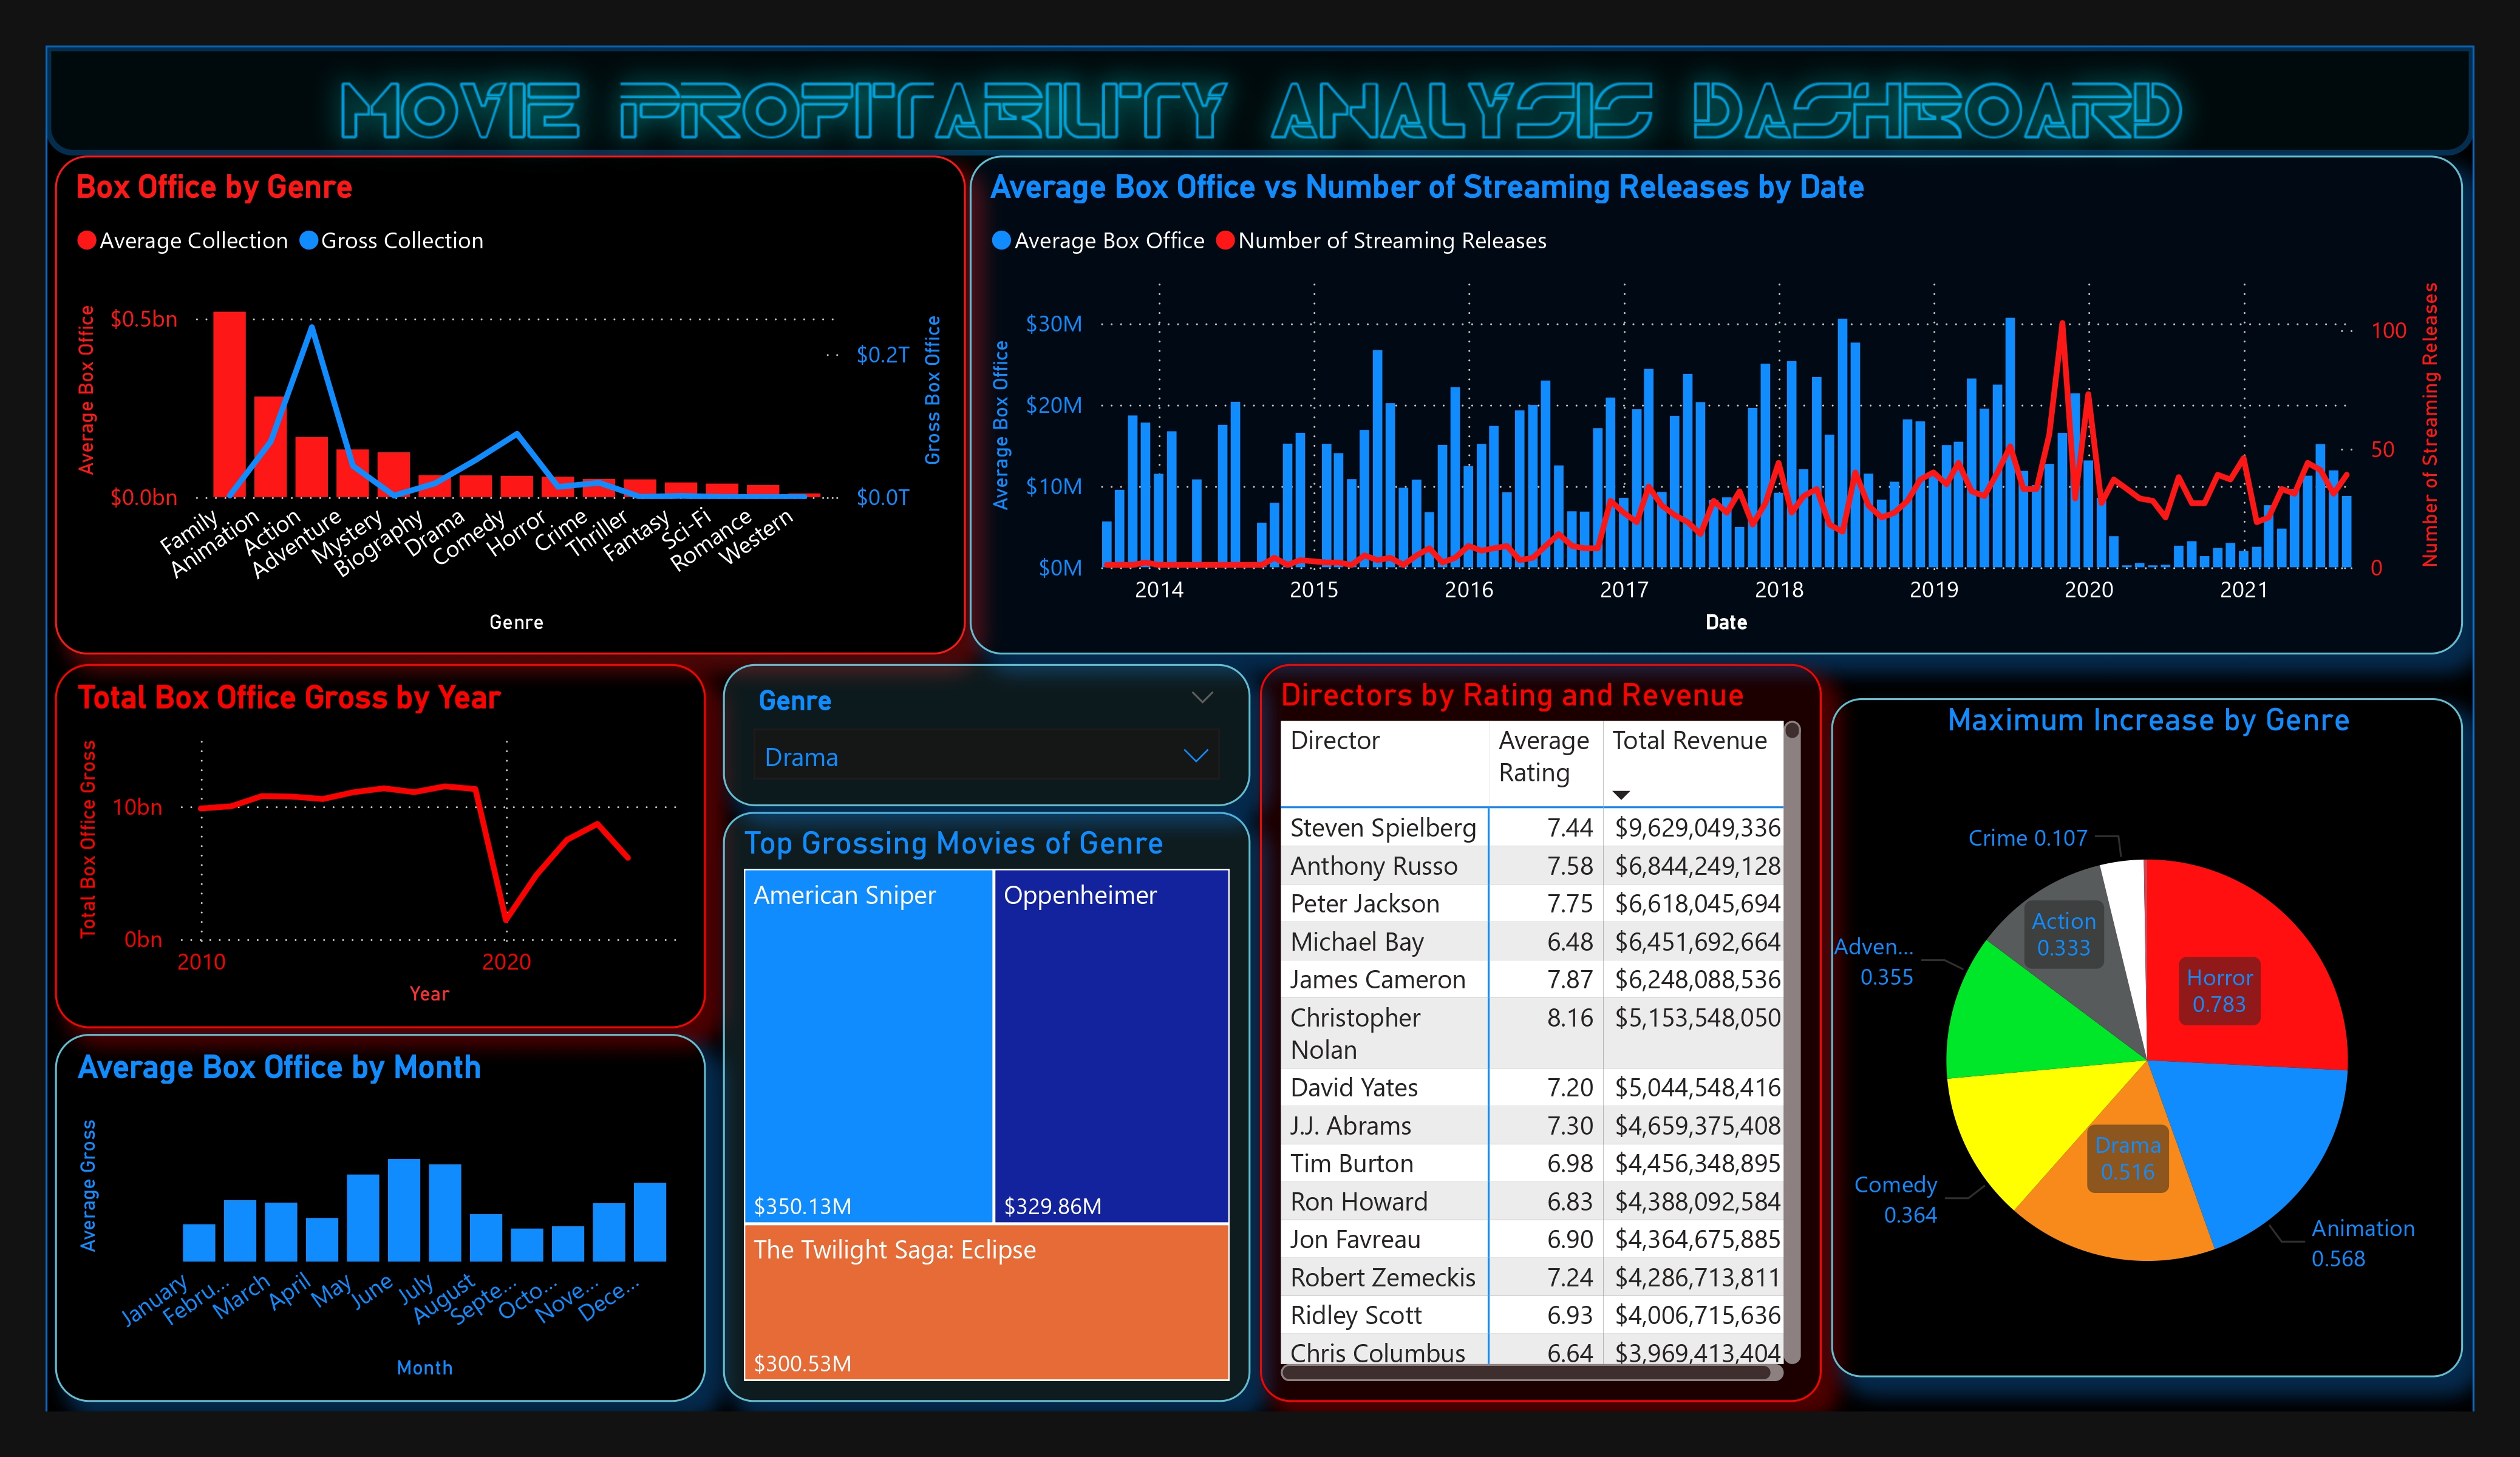

Layout of this report page (visuals, bound fields, positions):
{"tool":"powerbi","page":{"name":"Page 1","canvas":[1280,720],"ordinal":0},"visuals":[{"type":"shape","box":[0,0,1280,720.6],"z":0},{"type":"shape","box":[0,0,1280,58.1],"z":1000},{"type":"lineStackedColumnComboChart","title":"Box Office by Genre","fields":{"Category":["Genre Box Office.Genre"],"Y":["Sum(Genre Box Office.AverageCollection)"],"Y2":["Sum(Genre Box Office.GrossCollection)"]},"box":[4.7,58.1,480,263.1],"z":2000},{"type":"lineChart","title":"Total Box Office Gross by Year","fields":{"Y":["Sum(Yearly Box Office.total_gross)"],"Category":["Yearly Box Office.year"]},"box":[4.7,325.9,343.7,192],"z":3000},{"type":"lineStackedColumnComboChart","title":"Average Box Office vs Number of Streaming Releases by Date","fields":{"Category":["Streaming Movies Over Years.Date.Variation.Date Hierarchy.Year"],"Y":["Sum(Box Office Over Time.avg_boxoffice)"],"Y2":["Sum(Streaming Movies Over Years.Num Streaming Releases)"]},"box":[487.1,58.1,787,263.1],"z":4000},{"type":"clusteredColumnChart","title":"Average Box Office by Month","fields":{"Category":["Box Office Over Time.Date.Variation.Date Hierarchy.Year","Box Office Over Time.Date.Variation.Date Hierarchy.Quarter","Box Office Over Time.Date.Variation.Date Hierarchy.Month","Box Office Over Time.Date.Variation.Date Hierarchy.Day"],"Y":["Sum(Box Office Over Time.avg_boxoffice)"]},"box":[4.7,521.5,343.7,193.2],"z":5000},{"type":"treemap","title":"Top Grossing Movies of Genre","fields":{"Group":["Top Genre Movies.Movie"],"Values":["Sum(Top Genre Movies.total_gross)"]},"box":[356.7,404.1,278.5,310.5],"z":6000},{"type":"slicer","fields":{"Values":["Top Genre Movies.Genre"]},"box":[356.7,325.9,278.5,74.7],"z":7000},{"type":"pivotTable","title":"Directors by Rating and Revenue","fields":{"Rows":["Directors BO, Ratings.director"],"Values":["Sum(Directors BO, Ratings.avg_rating)","Sum(Directors BO, Ratings.total_revenue)"]},"box":[640,325.9,296.3,388.7],"z":8000},{"type":"pieChart","title":"Maximum Increase by Genre","fields":{"Category":["Genre Rating Changes.Genre"],"Y":["Sum(Genre Rating Changes.Maximum Increase)"],"Series":["Genre Rating Changes.Genre"]},"box":[941,343.7,333,357.9],"z":9000},{"type":"image","box":[0,0,1280,67.6],"z":10000}]}

Visuals, with their boxes in screenshot pixels (x1, y1, x2, y2):
shape: select_region(72, 39, 2469, 1388)
shape: select_region(72, 39, 2469, 148)
"Box Office by Genre" lineStackedColumnComboChart: select_region(81, 148, 980, 640)
"Total Box Office Gross by Year" lineChart: select_region(81, 650, 724, 1009)
"Average Box Office vs Number of Streaming Releases by Date" lineStackedColumnComboChart: select_region(984, 148, 2458, 640)
"Average Box Office by Month" clusteredColumnChart: select_region(81, 1016, 724, 1377)
"Top Grossing Movies of Genre" treemap: select_region(740, 796, 1262, 1377)
slicer - Top Genre Movies.Genre: select_region(740, 650, 1262, 789)
"Directors by Rating and Revenue" pivotTable: select_region(1271, 650, 1825, 1377)
"Maximum Increase by Genre" pieChart: select_region(1834, 683, 2458, 1353)
image: select_region(72, 39, 2469, 166)
